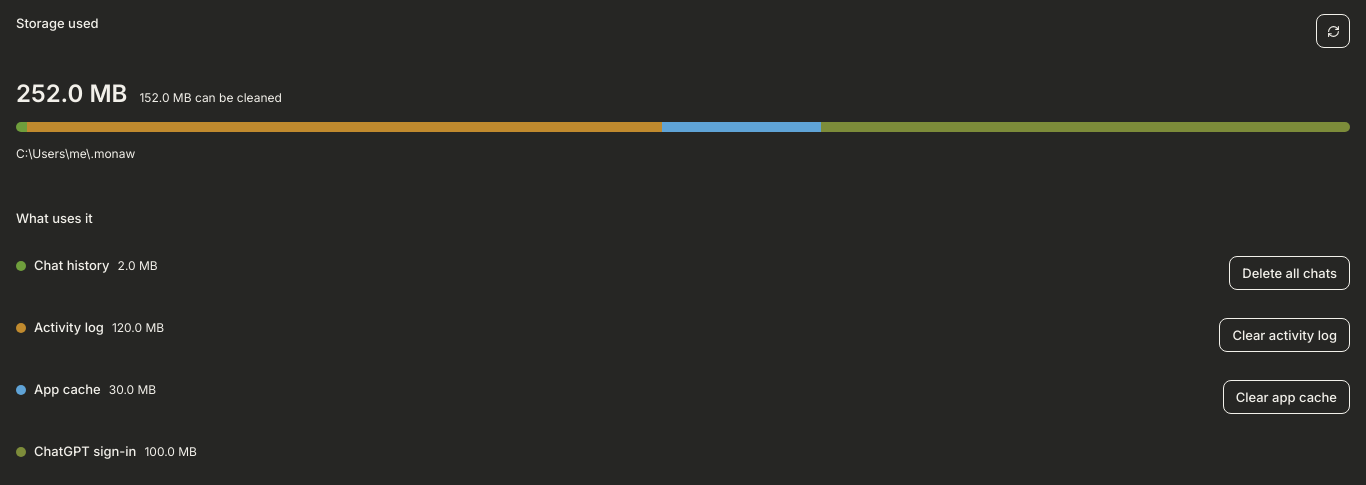
StorageSettings › cleans a category and reports the space freed
The width and height of the screenshot is (1366, 485).
Click the button "Clear activity log". click: click(1285, 335)
box: [1219,318,1350,352]
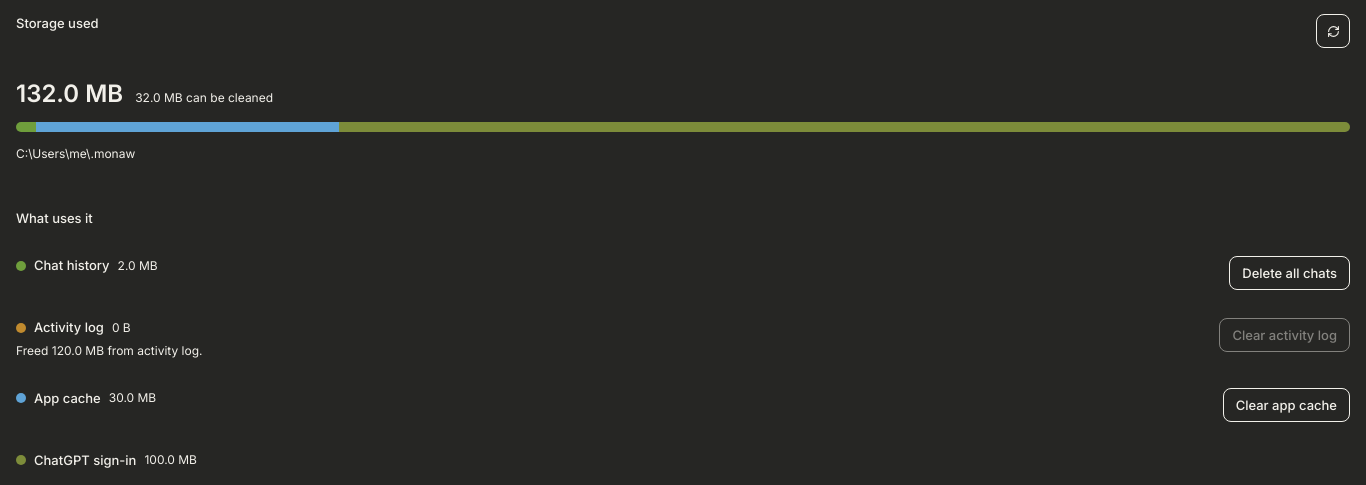
Now the text "Freed 120.0 MB from activity log." is shown, box [16,341,202,360]
Now the button "Clear activity log" is disabled, box [1219,318,1350,352]
